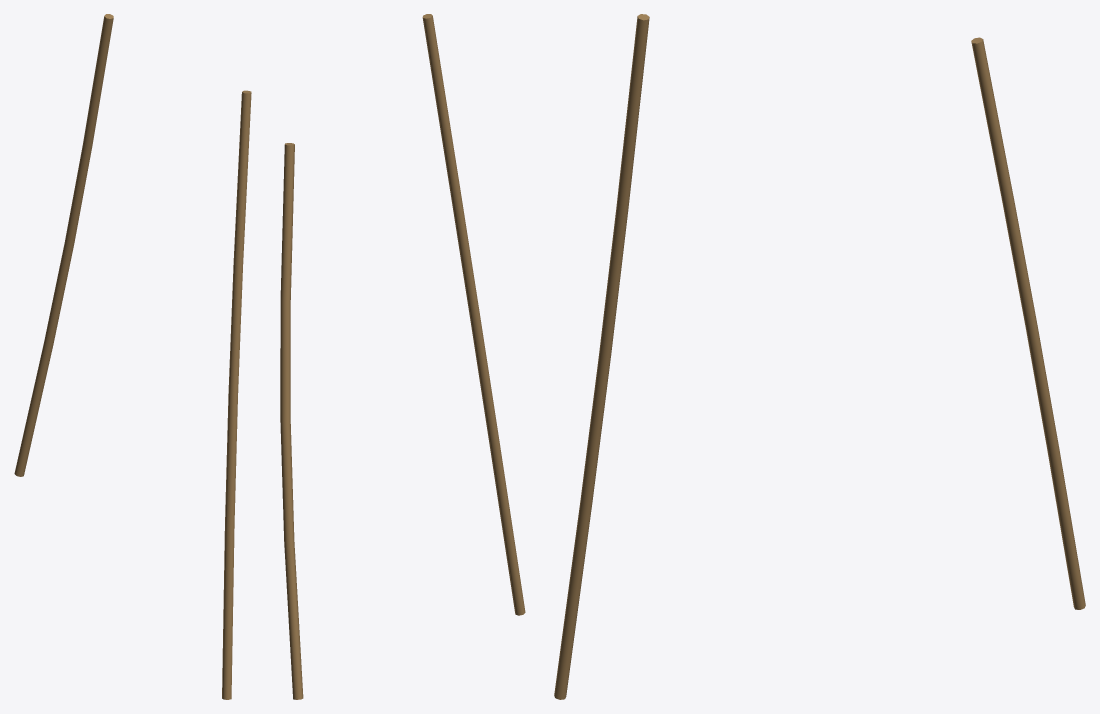
File: SM_Menu_MoonSuspension.fbx
3 views of the same model, side by side, from view 1: azimuth 30°, elevation 25°; view 2: azimuth 150°, elevation 25°; view 3: azimuth 270°, elevation 25° (orthographic). The views are drawn at different scales.
Visible parts, largest first — view 1: SM_Menu_MoonSuspension; view 2: SM_Menu_MoonSuspension; view 3: SM_Menu_MoonSuspension.
Part boxes in pixels (left/top/right/bottom): SM_Menu_MoonSuspension: left=14, top=14, right=251, bottom=699; SM_Menu_MoonSuspension: left=280, top=14, right=525, bottom=699; SM_Menu_MoonSuspension: left=554, top=14, right=1085, bottom=699.
Size of the model in its own units: 27.68 by 166 by 246.
